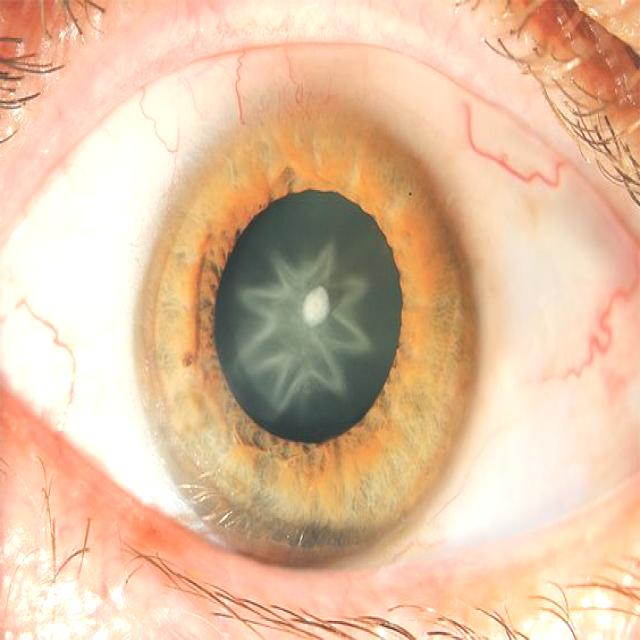Cataract: (127, 79, 474, 587)
